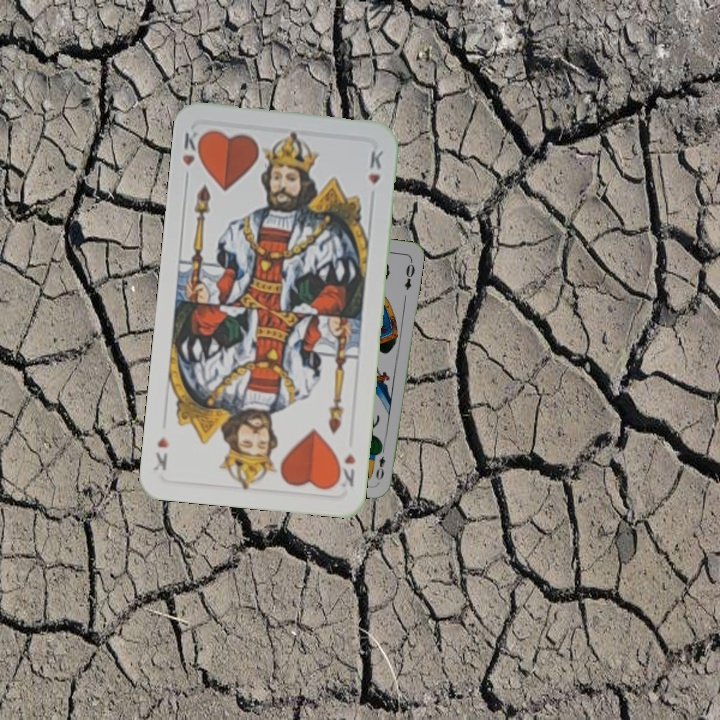EO: (372, 443, 388, 483)
HK: (178, 127, 206, 185), (332, 449, 358, 490)
